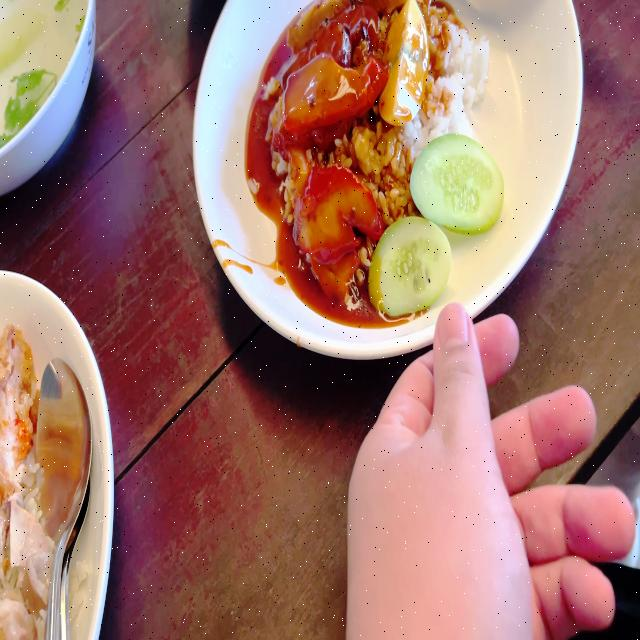boiled_egg: (380, 0, 424, 127)
chainese_sausage: (291, 11, 378, 56)
chicken_rice: (0, 310, 90, 640)
cucumber: (408, 131, 502, 227), (365, 207, 452, 306)
fried_chicken: (0, 316, 36, 504)
red_pork: (296, 162, 371, 287), (279, 61, 383, 128)
red_pork_and_crispy_pork: (260, 0, 514, 315)
